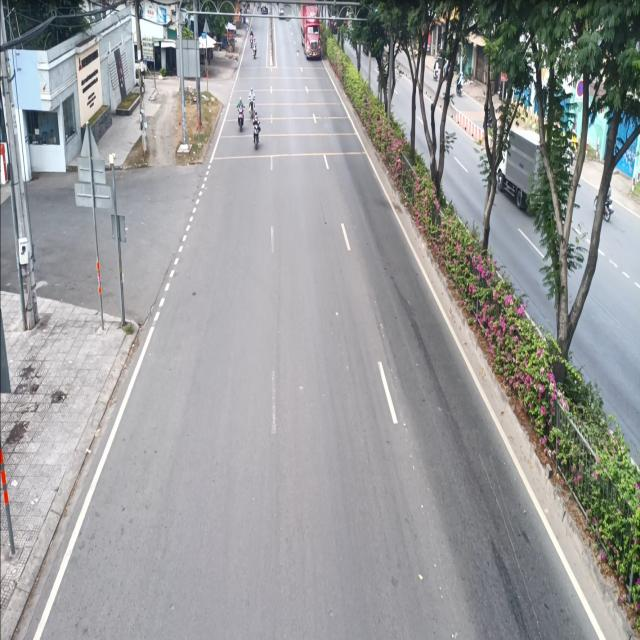motor: (251, 110, 263, 161), (248, 86, 259, 122), (234, 97, 246, 126)
